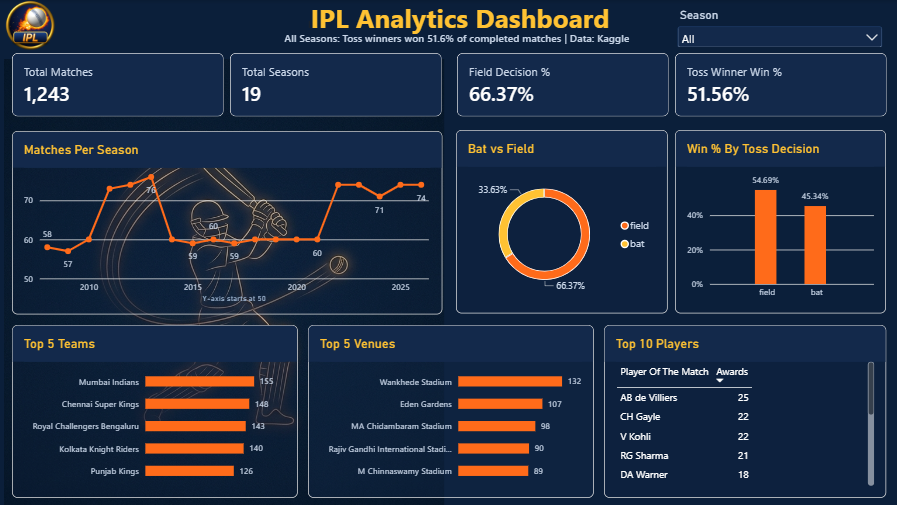

This screenshot's page, from the dashboard's own definition file:
{"tool":"powerbi","page":{"name":"Page 1","canvas":[1280,720],"ordinal":0},"visuals":[{"type":"image","box":[8.6,82.9,623.6,636.4],"z":0},{"type":"cardVisual","fields":{"Data":["ipl_matches_clean.Total Matches"]},"box":[19.8,75,300,90],"z":1000},{"type":"clusteredBarChart","title":"Top 5 Teams","fields":{"Category":["ipl_matches_clean.winner"],"Y":["CountNonNull(ipl_matches_clean.winner)"]},"box":[20,460,405,245],"z":2000},{"type":"lineChart","title":"Matches Per Season","fields":{"Category":["ipl_matches_clean.season_year"],"Y":["CountNonNull(ipl_matches_clean.date)"]},"box":[20,185,610,260],"z":3000},{"type":"donutChart","title":"Bat vs Field","fields":{"Category":["ipl_matches_clean.toss_decision"],"Y":["CountNonNull(ipl_matches_clean.date)"]},"box":[649.3,184.5,300.3,260.3],"z":4000},{"type":"clusteredBarChart","title":"Top 5 Venues","fields":{"Category":["ipl_matches_clean.venue_clean"],"Y":["CountNonNull(ipl_matches_clean.date)"]},"box":[440,461,405,245],"z":5000},{"type":"tableEx","title":"Top 10 Players","fields":{"Values":["ipl_matches_clean.player_of_match","ipl_matches_clean.date"]},"box":[859.5,460.5,400,245],"z":6000},{"type":"slicer","fields":{"Values":["ipl_matches_clean.season_year"]},"box":[958.7,12,300,55],"z":7000},{"type":"cardVisual","fields":{"Data":["ipl_matches_clean.Field Decision %"]},"box":[650,75,300,90],"z":8000},{"type":"cardVisual","fields":{"Data":["ipl_matches_clean.Total Seasons"]},"box":[328.8,75,300,90],"z":9000},{"type":"textbox","box":[439.4,0,464.9,51],"z":10000},{"type":"cardVisual","fields":{"Data":["ipl_matches_clean.Toss Winner Win %"]},"box":[960,75,300,90],"z":13000},{"type":"clusteredColumnChart","title":"Win % By Toss Decision","fields":{"Category":["ipl_matches_clean.toss_decision"],"Y":["ipl_matches_clean.Toss Winner Win %"]},"box":[959.6,184.5,298.9,260.3],"z":14000},{"type":"image","box":[10,0,72,72],"z":14001},{"type":"cardVisual","fields":{"Data":["ipl_matches_clean.Insight Line"]},"box":[389.8,39.7,560,28],"z":14002}]}

Visuals, with their boxes in screenshot pixels (x1, y1, x2, y2), scaled from the page's 1280x720 canvas onto the 897x505 screenshot:
image: 6,58,443,504
cardVisual - ipl_matches_clean.Total Matches: 14,53,224,116
"Top 5 Teams" clusteredBarChart: 14,323,298,494
"Matches Per Season" lineChart: 14,130,441,312
"Bat vs Field" donutChart: 455,129,665,312
"Top 5 Venues" clusteredBarChart: 308,323,592,495
"Top 10 Players" tableEx: 602,323,883,495
slicer - ipl_matches_clean.season_year: 672,8,882,47
cardVisual - ipl_matches_clean.Field Decision %: 456,53,666,116
cardVisual - ipl_matches_clean.Total Seasons: 230,53,441,116
textbox: 308,0,634,36
cardVisual - ipl_matches_clean.Toss Winner Win %: 673,53,883,116
"Win % By Toss Decision" clusteredColumnChart: 672,129,882,312
image: 7,0,57,50
cardVisual - ipl_matches_clean.Insight Line: 273,28,666,47
